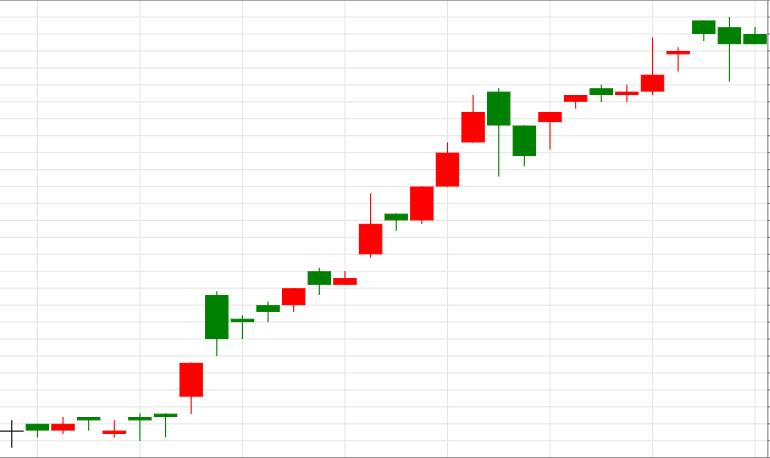shooting_star_fall: (179, 192, 382, 413)
